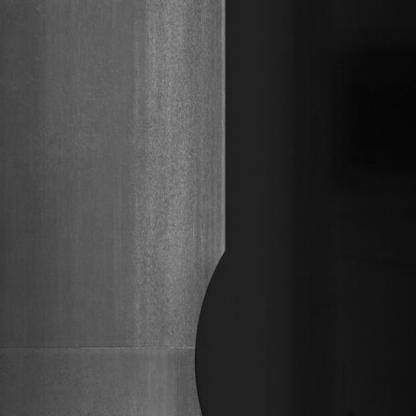crescent_gap: (184, 230, 240, 412)
welding_line: (0, 331, 196, 359)
